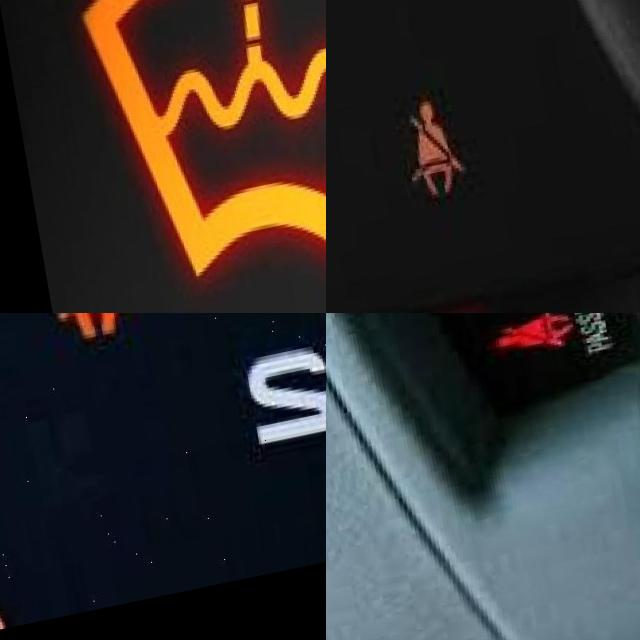Seat Belt: (394, 113, 451, 213), (31, 313, 124, 358), (480, 324, 564, 372)
Washer Fluid: (56, 0, 326, 313)
